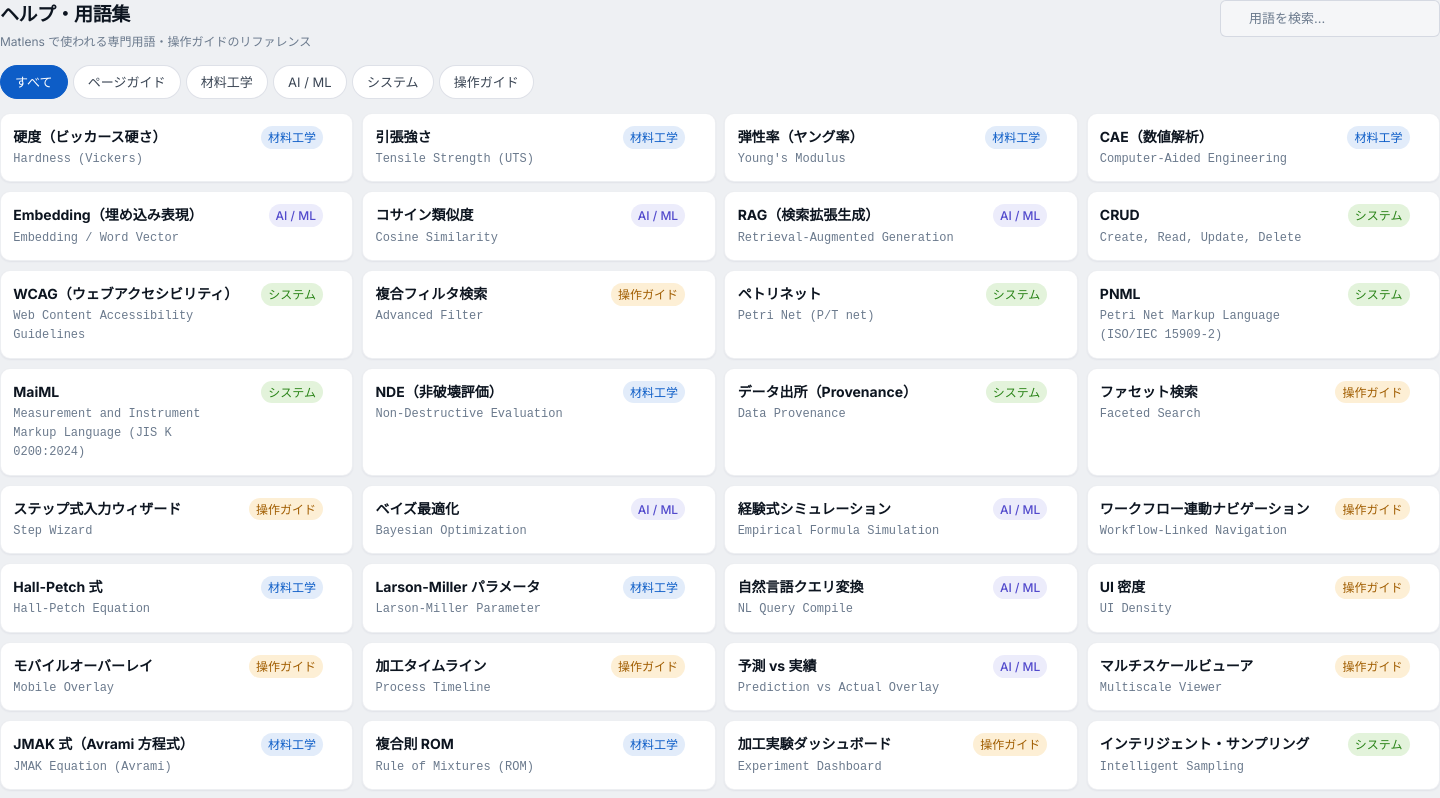
Test: HelpPage › shows "not found" message when search has no hits
Click the tab "ページガイド": (127, 82) [73,65,181,99]
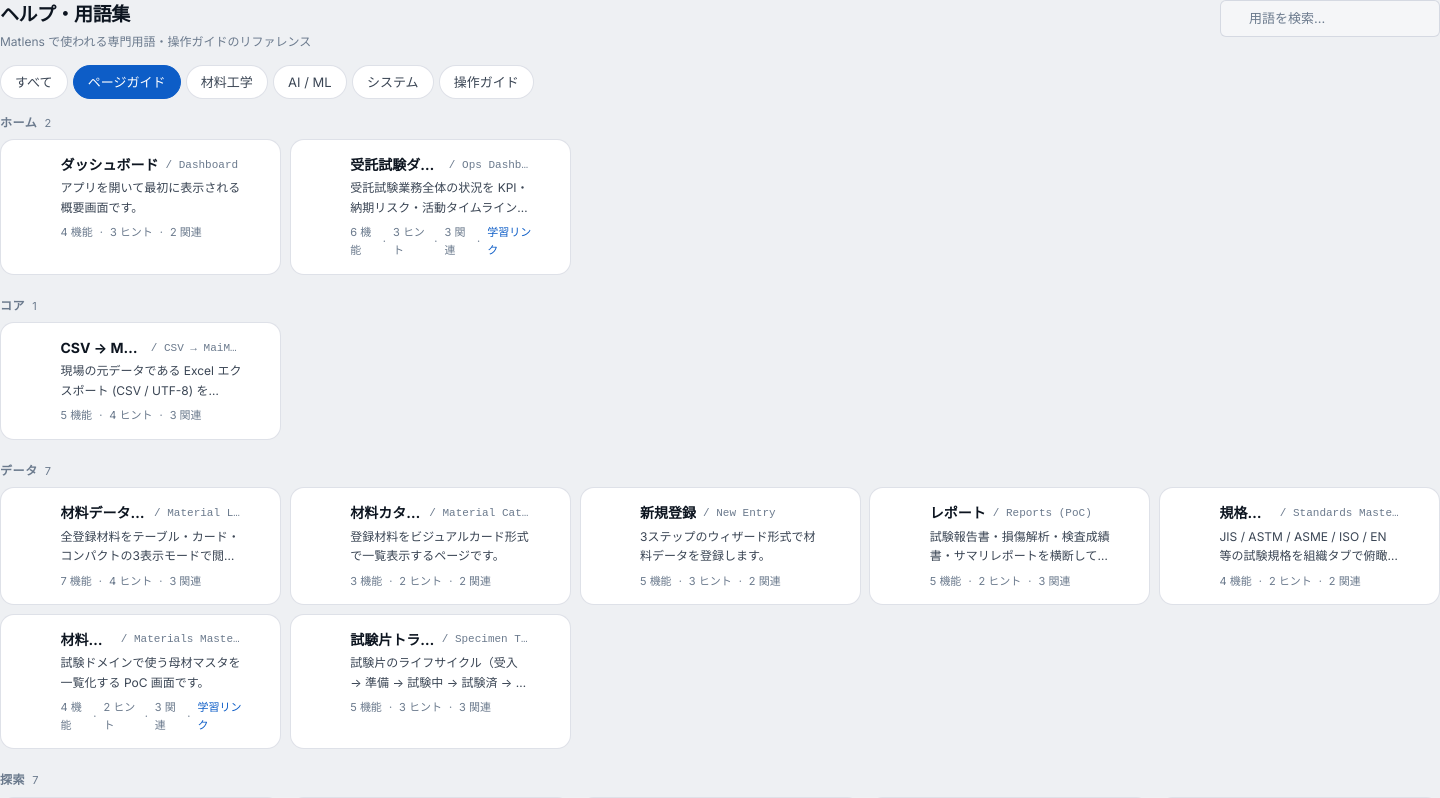
In the field with placeholder "用語を検索...": (1330, 18) [1220,0,1439,37], type "zzz-no-such-keyword-zzz"
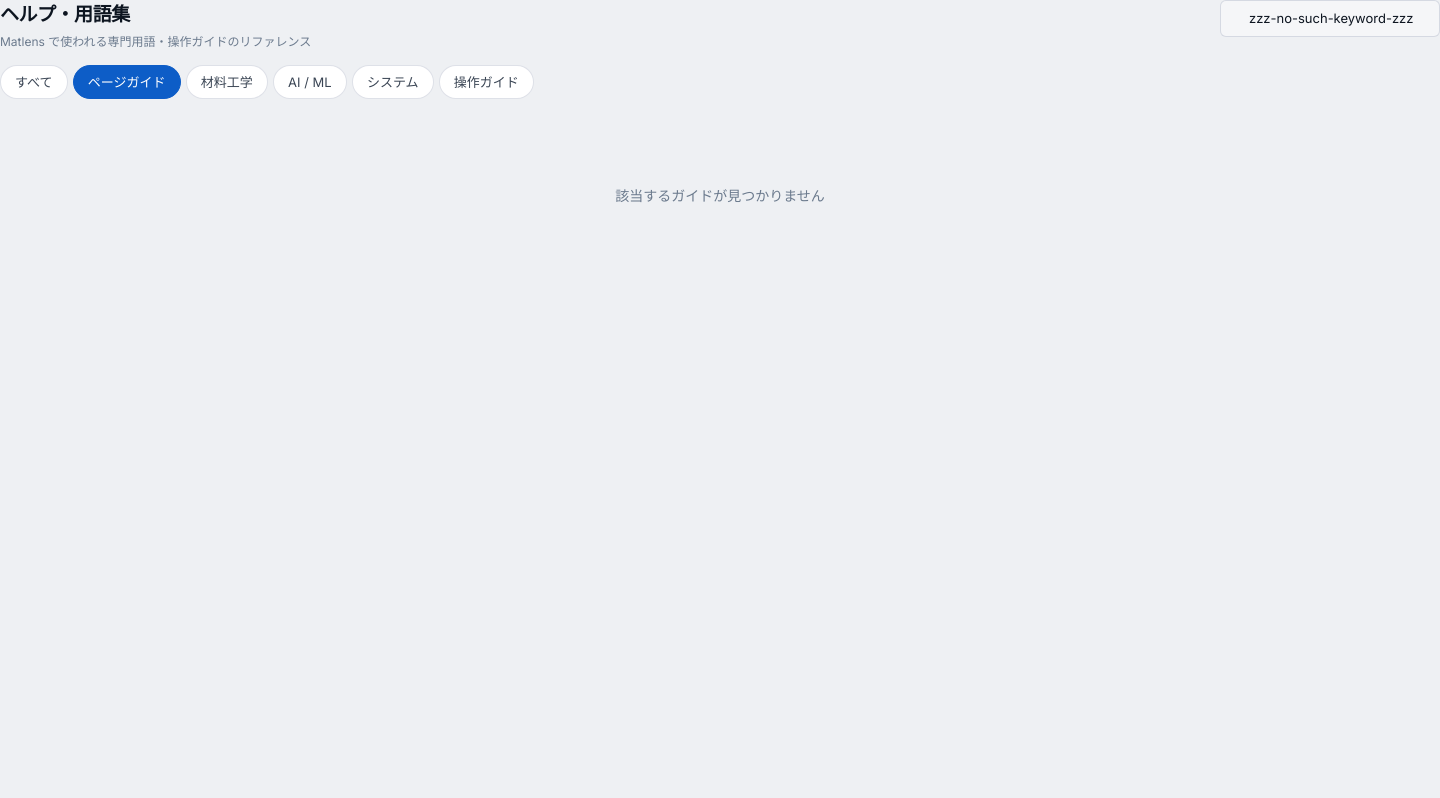
Now the text "該当するガイドが見つかりません" is shown, box [615,187,825,204]
